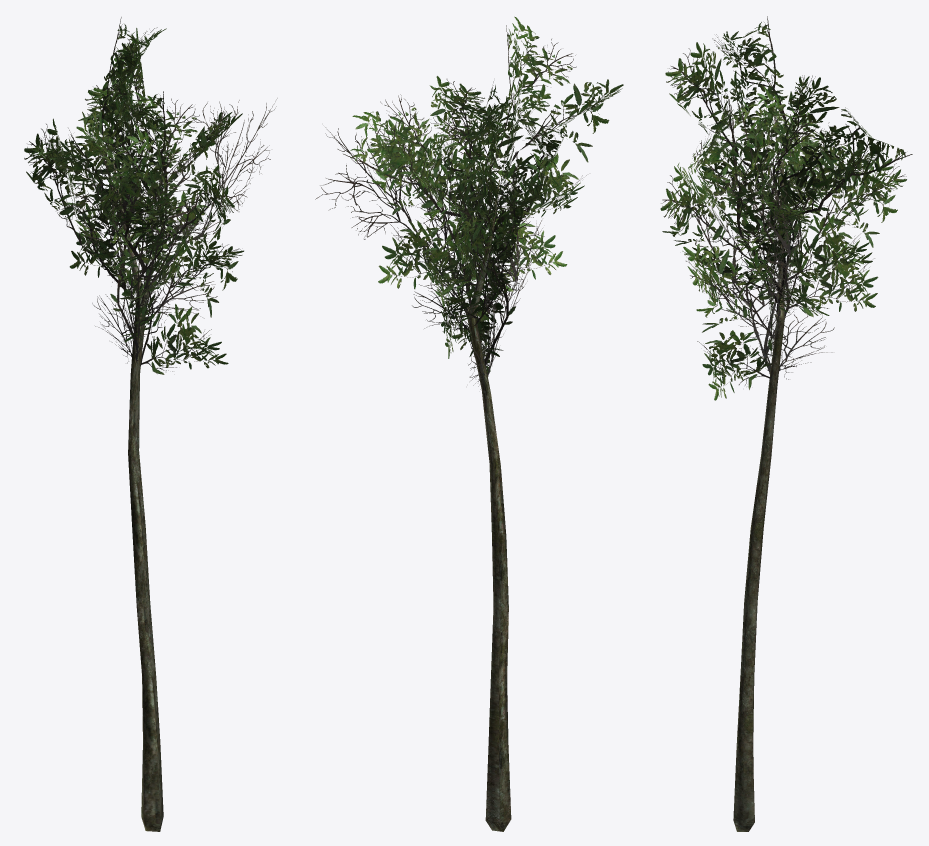
Rendered from Jungle_Tree_Thin_b.fbx.
The picture shows the model from 3 angles, left to right: view 1: azimuth 30°, elevation 25°; view 2: azimuth 150°, elevation 25°; view 3: azimuth 270°, elevation 25°; orthographic projection.
Visible parts, largest first — view 1: leaf_Jungle_Tree_Thin_b_mesh, trunk_Jungle_Tree_Thin_b_mesh; view 2: leaf_Jungle_Tree_Thin_b_mesh, trunk_Jungle_Tree_Thin_b_mesh; view 3: leaf_Jungle_Tree_Thin_b_mesh, trunk_Jungle_Tree_Thin_b_mesh.
Boxes of the visible parts, x1,y1,x2,y2 form: leaf_Jungle_Tree_Thin_b_mesh: (24, 17, 277, 374); trunk_Jungle_Tree_Thin_b_mesh: (112, 160, 163, 831); leaf_Jungle_Tree_Thin_b_mesh: (315, 16, 623, 392); trunk_Jungle_Tree_Thin_b_mesh: (465, 179, 511, 831); leaf_Jungle_Tree_Thin_b_mesh: (660, 16, 912, 400); trunk_Jungle_Tree_Thin_b_mesh: (733, 161, 784, 831).
Bounding box in the file's own units: 2.76 × 8.32 × 2.43.
